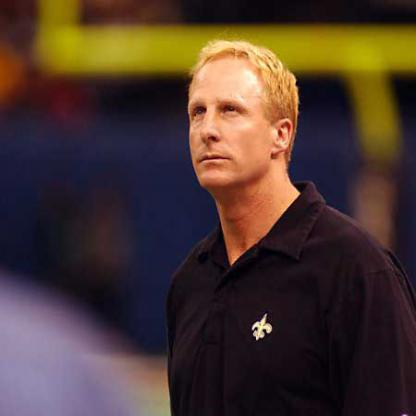face: (183, 43, 278, 199)
